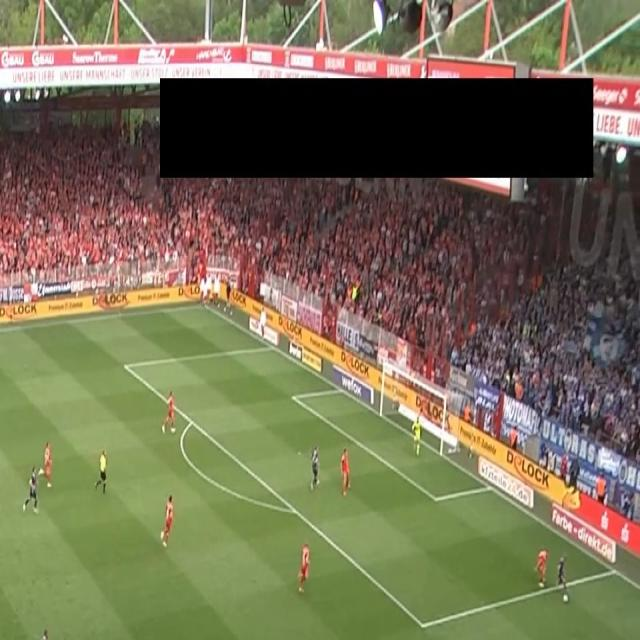ball: (562, 592, 570, 604)
